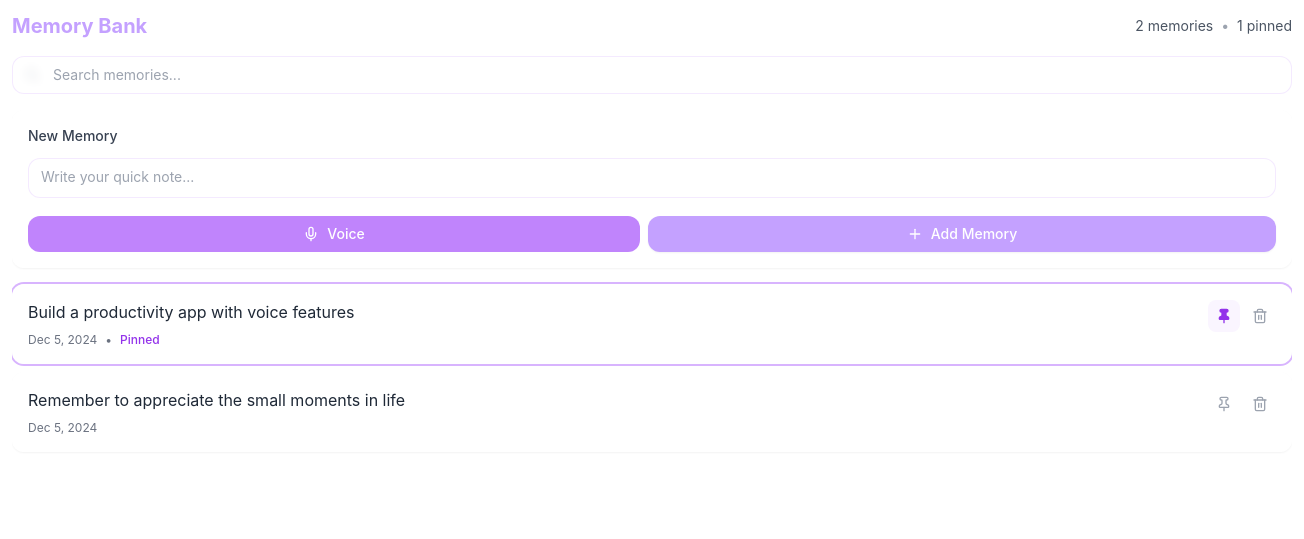
Scenario: MemoryBank Component › should add new memory
Type "New memory note" into the text box with placeholder "Write your quick note..." at x=652, y=178, box top-left (28, 158), bottom-right (1276, 198)
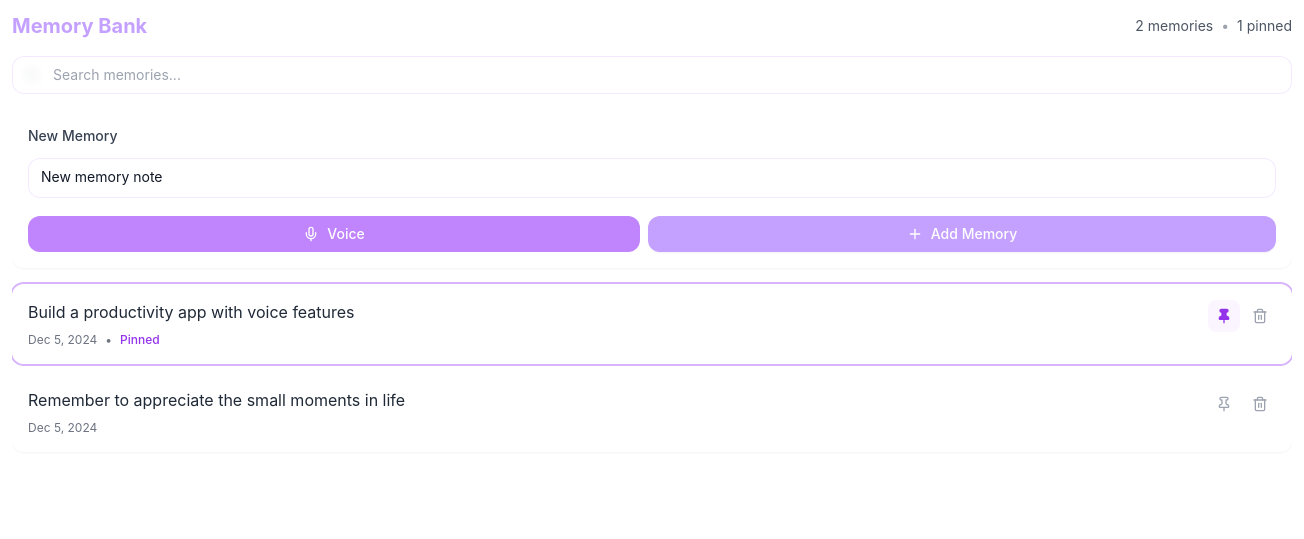
Click the button "Add Memory" at x=962, y=234, box top-left (648, 216), bottom-right (1276, 252)
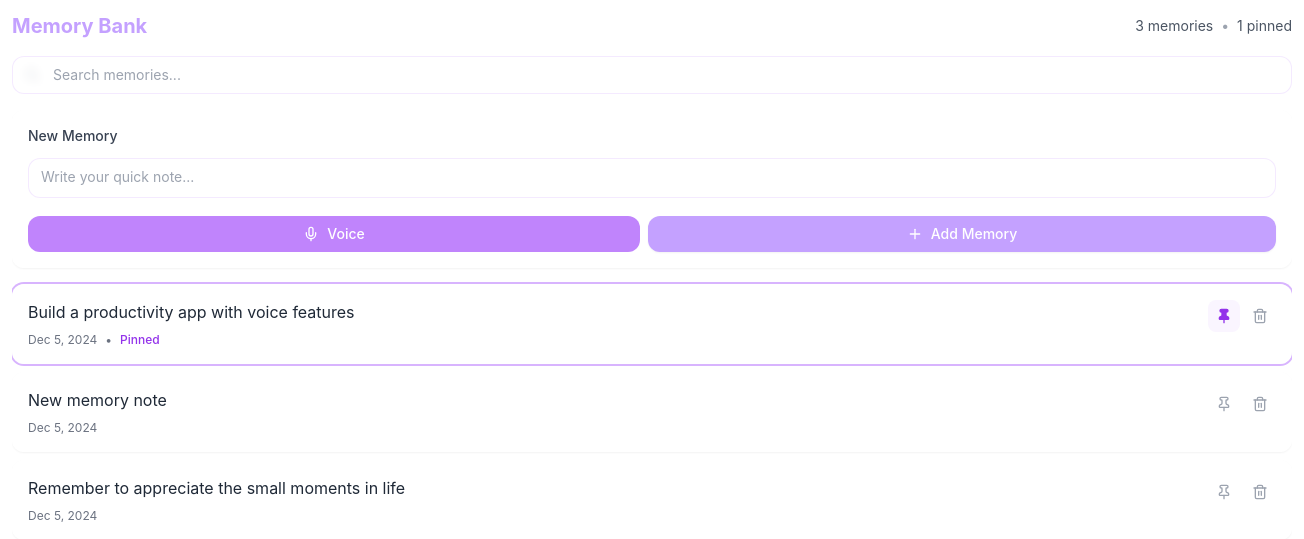
Check: the text "New memory note" is shown, box top-left (28, 390), bottom-right (167, 410)
